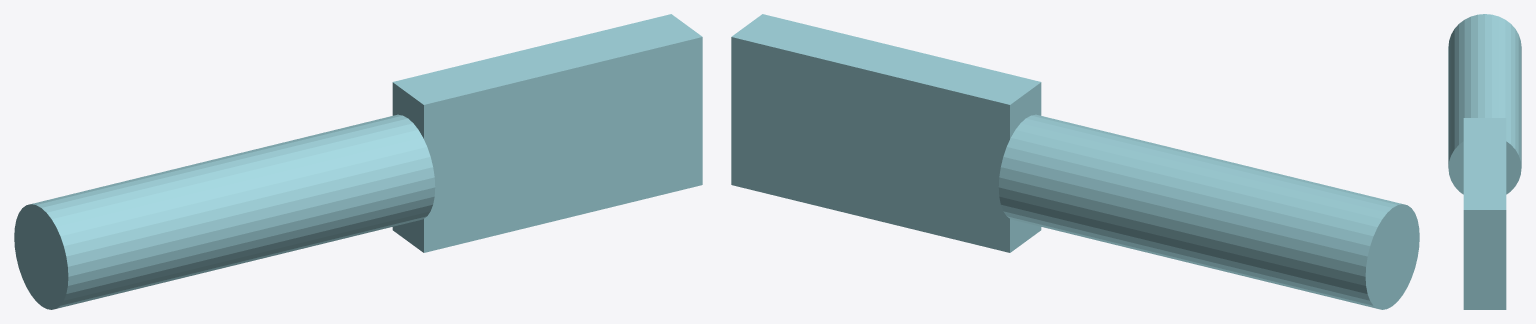
The model's file is cylinder_spatula_v6015.obj.
3 views of the same model, side by side, from view 1: azimuth 30°, elevation 25°; view 2: azimuth 150°, elevation 25°; view 3: azimuth 270°, elevation 25° (orthographic). The views are drawn at different scales.
Bounding box in the file's own units: 0.2949 × 0.0646 × 0.0428.
1 material, 1 textured.
